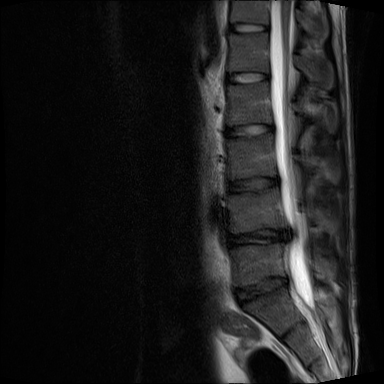Degenerative Disc Disease (DDD): (232, 273, 292, 309), (224, 171, 283, 197)
Lumbar Disc Bulge (LDB): (224, 223, 300, 251)
Normal IVD: (222, 119, 278, 142), (224, 67, 274, 86), (225, 20, 274, 37)
Spinal Stenosis (SS): (278, 222, 297, 245)
